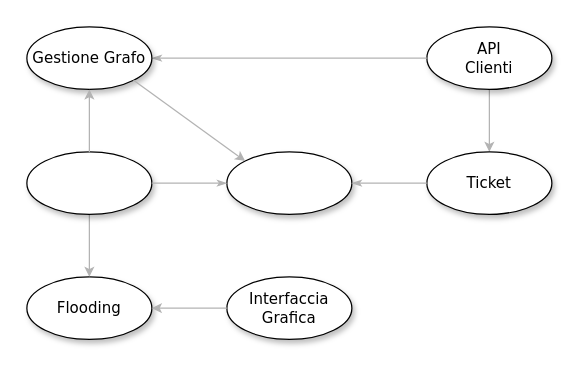
This 581x370 diagram has some shape labels left out. The centre of each missing label's shape, as x and y in pixels:
"Ant Colony" belongs at (x=90, y=184).
"Comunicazione" belongs at (x=290, y=184).
